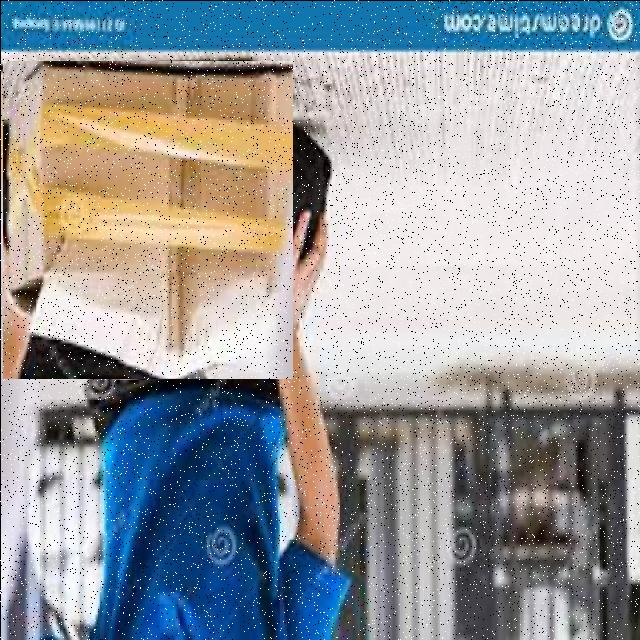defect: (1, 60, 292, 378)
